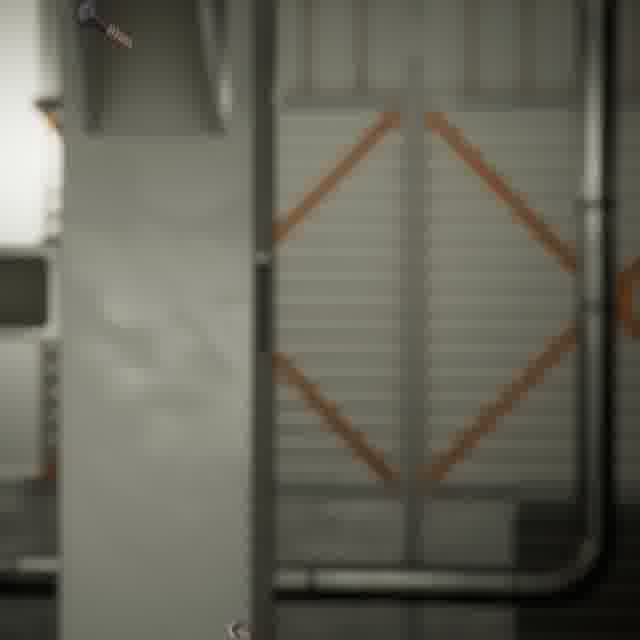bolt: (71, 0, 137, 55), (221, 613, 256, 640)
